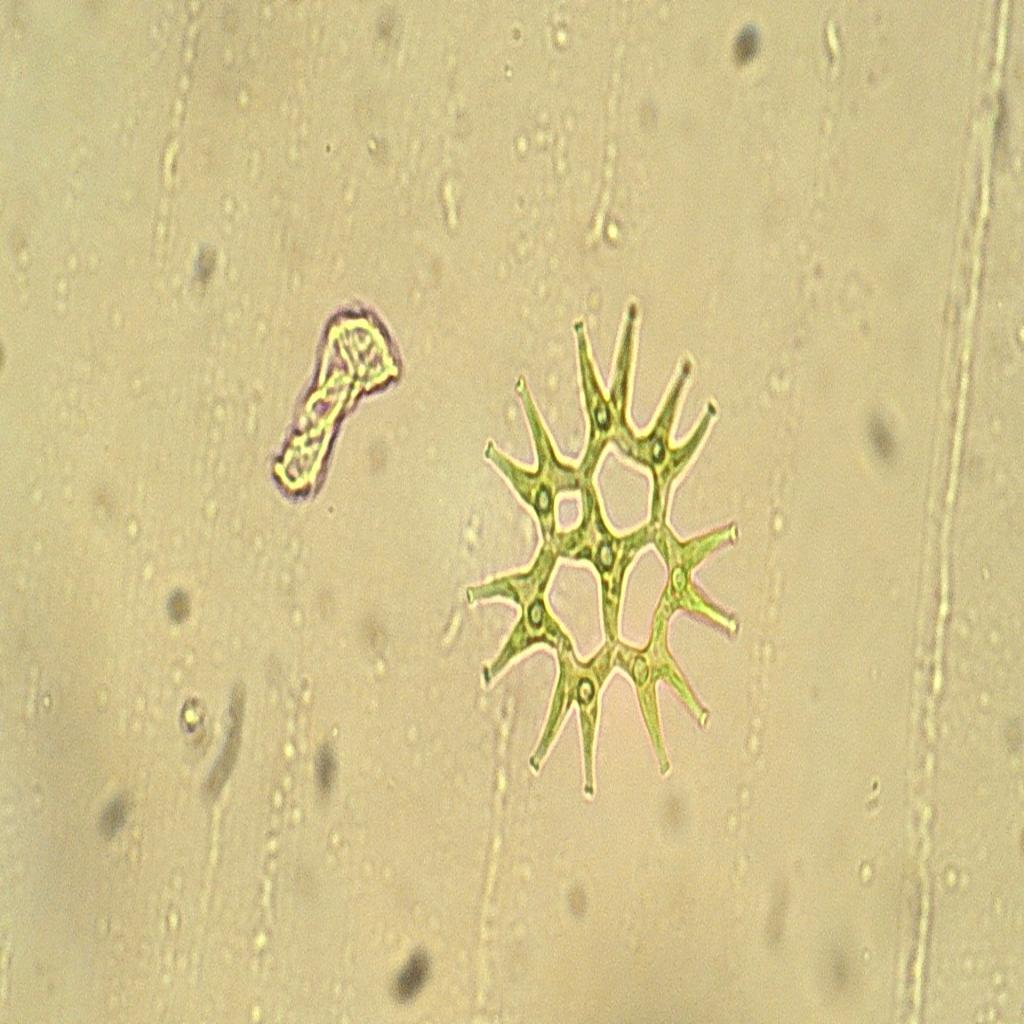Pediastrum_75T: (462, 295, 750, 807)
